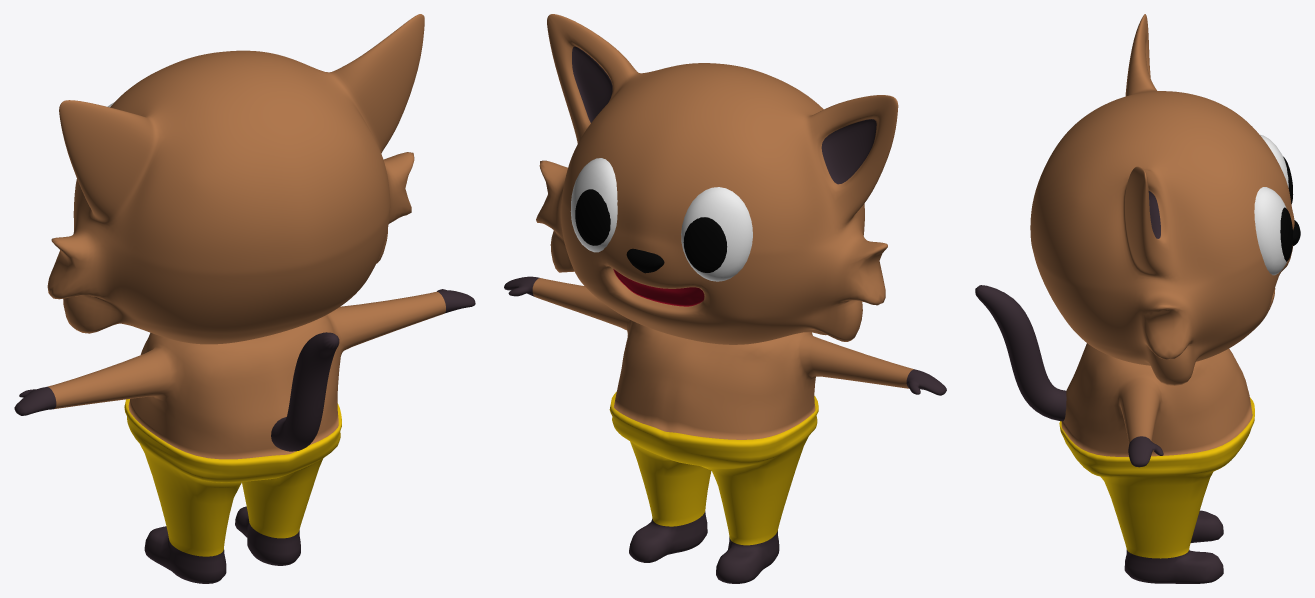
3 renders of one model, left to right at view 1: azimuth 30°, elevation 25°; view 2: azimuth 150°, elevation 25°; view 3: azimuth 270°, elevation 25°, orthographic. The views are drawn at different scales.
Parts seen in each view (by area): view 1: Roundcube, Roundcube.002, BezierCurve; view 2: Roundcube, Roundcube.002, Roundcube.001, Roundcube.003, Roundcube.004; view 3: Roundcube, Roundcube.002, BezierCurve, Roundcube.001, Roundcube.003.
Boxes of the visible parts, left/top/right/bottom form: Roundcube: left=47, top=14, right=424, bottom=344; Roundcube.002: left=14, top=289, right=475, bottom=583; BezierCurve: left=271, top=332, right=339, bottom=451; Roundcube: left=536, top=14, right=898, bottom=344; Roundcube.002: left=504, top=276, right=946, bottom=583; Roundcube.001: left=570, top=158, right=752, bottom=281; Roundcube.003: left=575, top=189, right=727, bottom=272; Roundcube.004: left=626, top=248, right=664, bottom=273; Roundcube: left=1030, top=14, right=1294, bottom=385; Roundcube.002: left=1059, top=343, right=1254, bottom=583; BezierCurve: left=975, top=285, right=1066, bottom=421; Roundcube.001: left=1254, top=134, right=1288, bottom=275; Roundcube.003: left=1280, top=156, right=1293, bottom=261.
Bounding box in the file's own units: 345 × 371 × 233.
